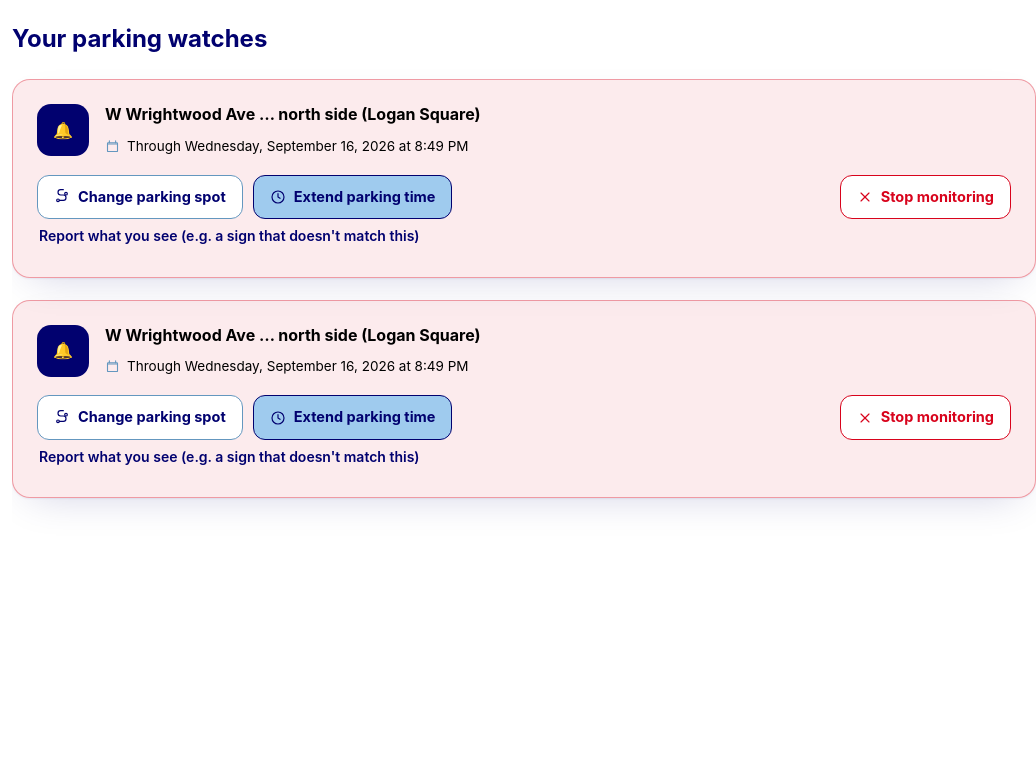
Test case: WatchesByEmailPanel › Extend on one row updates only that row
Click the 1st button "Extend parking time" at [353, 197], box [253, 175, 452, 219]
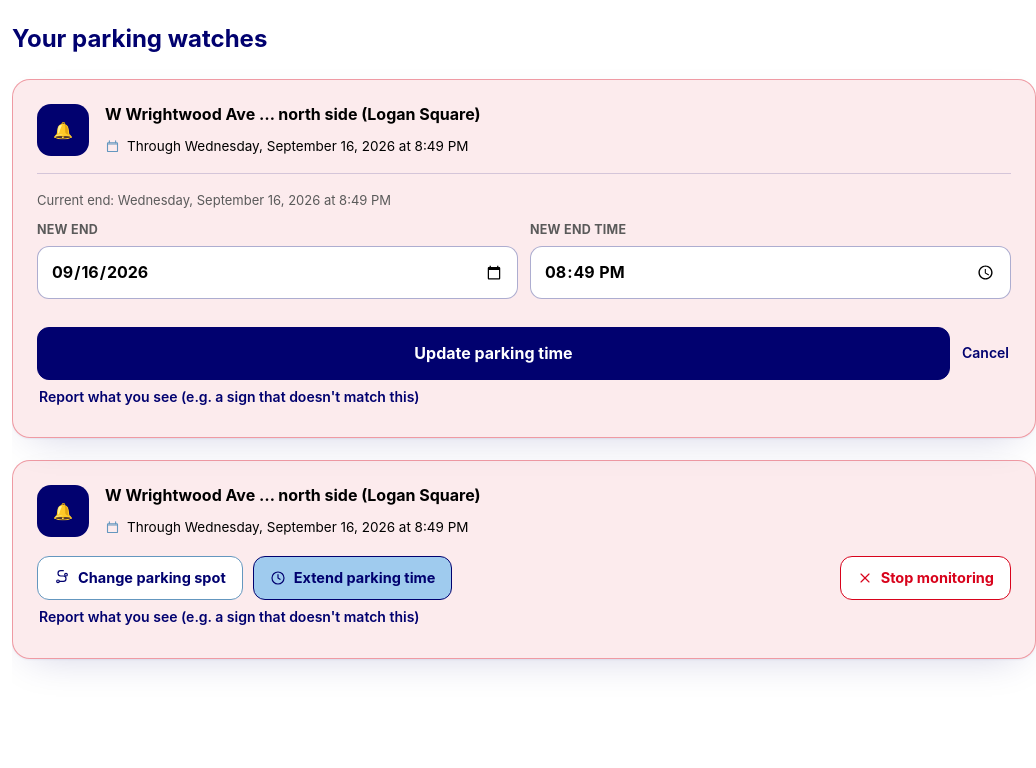
Type "2026-09-20" into the date field labelled "New end" at [278, 272], box [37, 246, 518, 299]
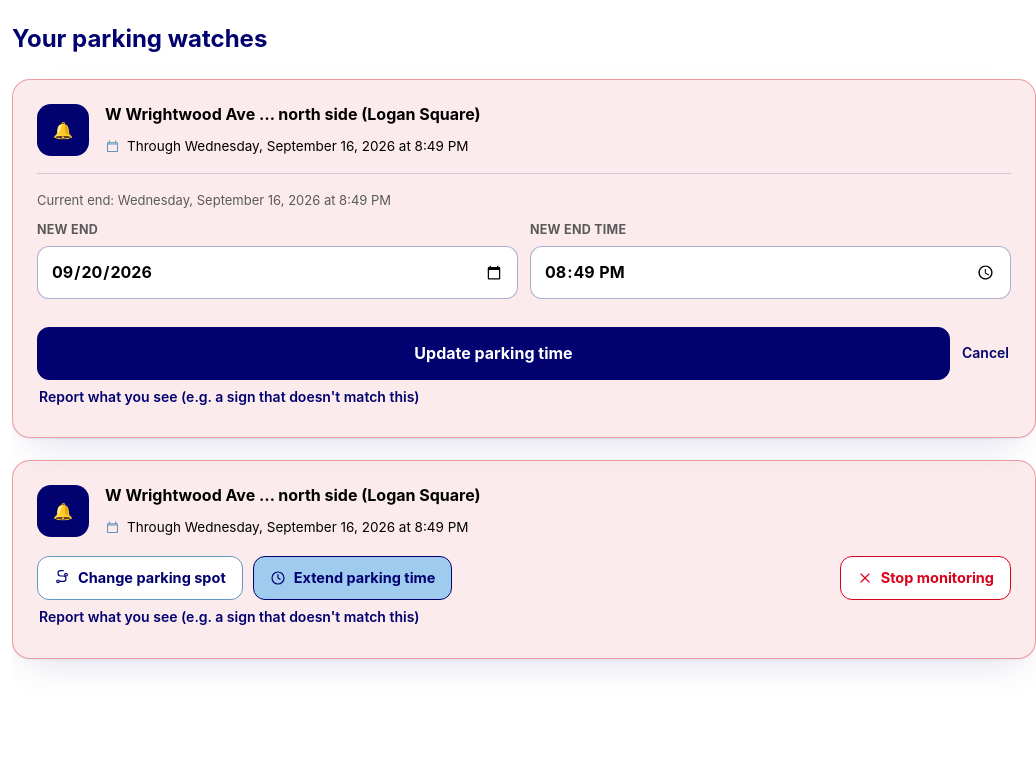
Click the button "Update parking time" at [494, 353], box [37, 327, 950, 380]
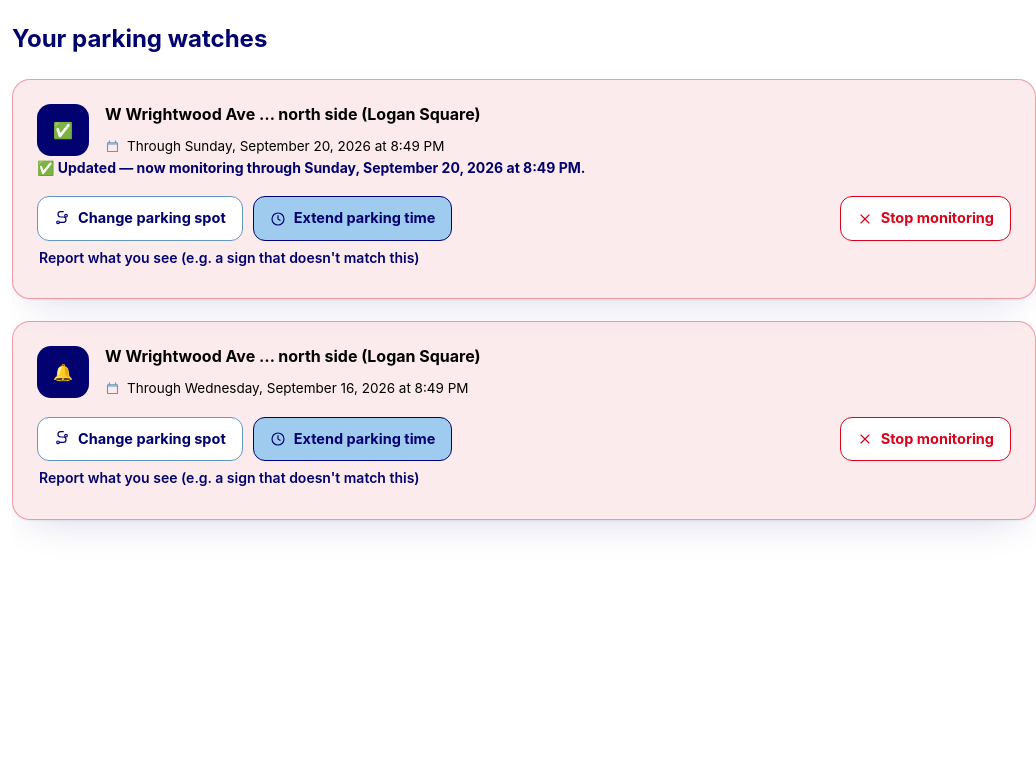
Expected: the text "Through Sunday, September 20, 2026 at 8:49 PM" is shown 2 times, [105, 138, 444, 154]; [37, 159, 586, 176]
Expected: the text "✅ Updated — now monitoring through Sunday, September 20, 2026 at 8:49 PM." is shown, [37, 159, 586, 176]
